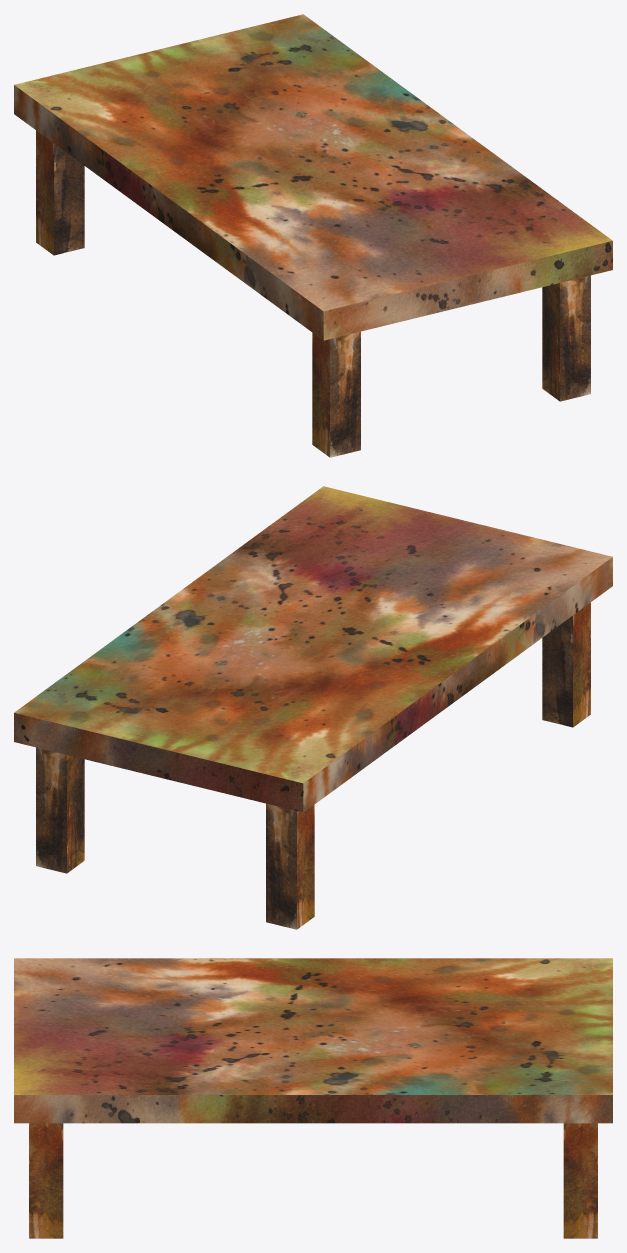
File: table.glb
3 views of the same model, one above another, from view 1: azimuth 30°, elevation 25°; view 2: azimuth 150°, elevation 25°; view 3: azimuth 270°, elevation 25° (orthographic). The views are drawn at different scales.
Parts seen in each view (by area): view 1: Cube, Cube.001; view 2: Cube, Cube.001; view 3: Cube, Cube.001.
Boxes of the visible parts, left/top/right/bottom form: Cube: left=14, top=14, right=612, bottom=340; Cube.001: left=36, top=130, right=590, bottom=457; Cube: left=14, top=486, right=612, bottom=812; Cube.001: left=36, top=602, right=590, bottom=929; Cube: left=14, top=958, right=612, bottom=1123; Cube.001: left=29, top=1123, right=597, bottom=1238.
Size of the model in its own units: 4.68 by 2.4 by 8.67.
Materials: 2 (2 with a texture image).
